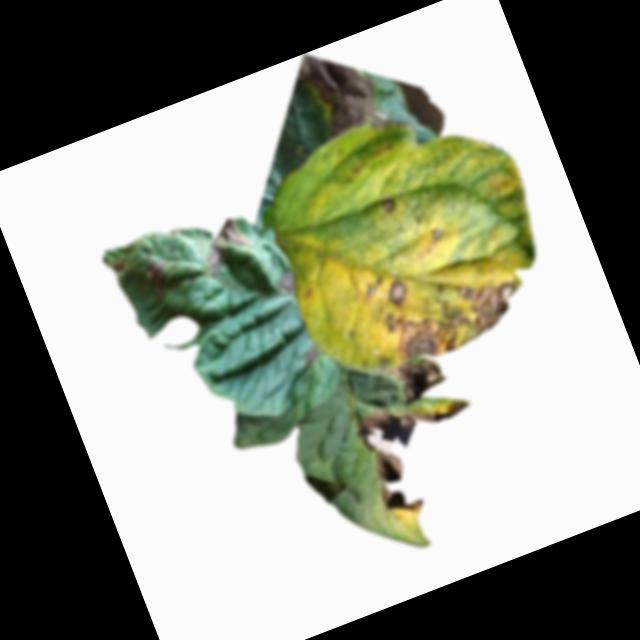Early_blight: (349, 379, 504, 530), (375, 264, 532, 371), (290, 34, 388, 145), (193, 214, 257, 276), (385, 349, 452, 407), (136, 255, 176, 295), (382, 273, 414, 310), (275, 269, 301, 299), (302, 345, 325, 369), (378, 195, 399, 218), (108, 256, 130, 275), (429, 226, 446, 245)
